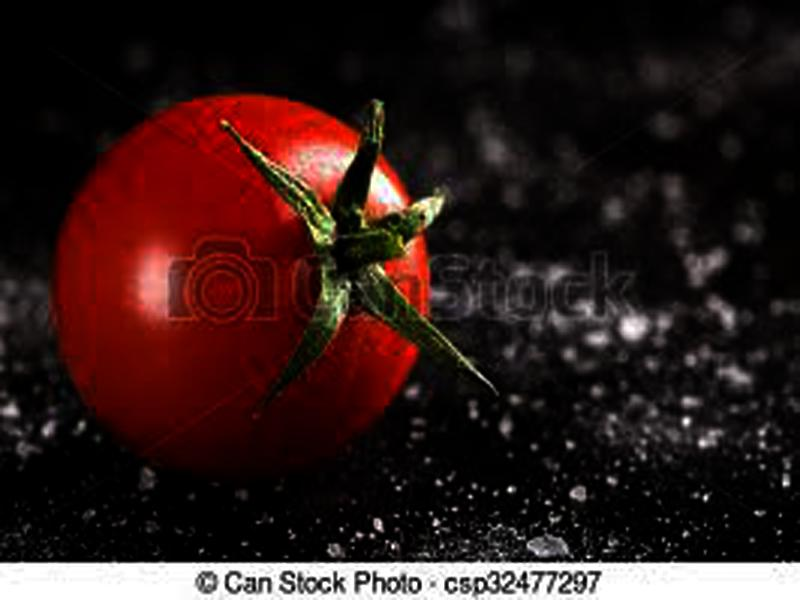Tomato: (51, 92, 430, 476)
